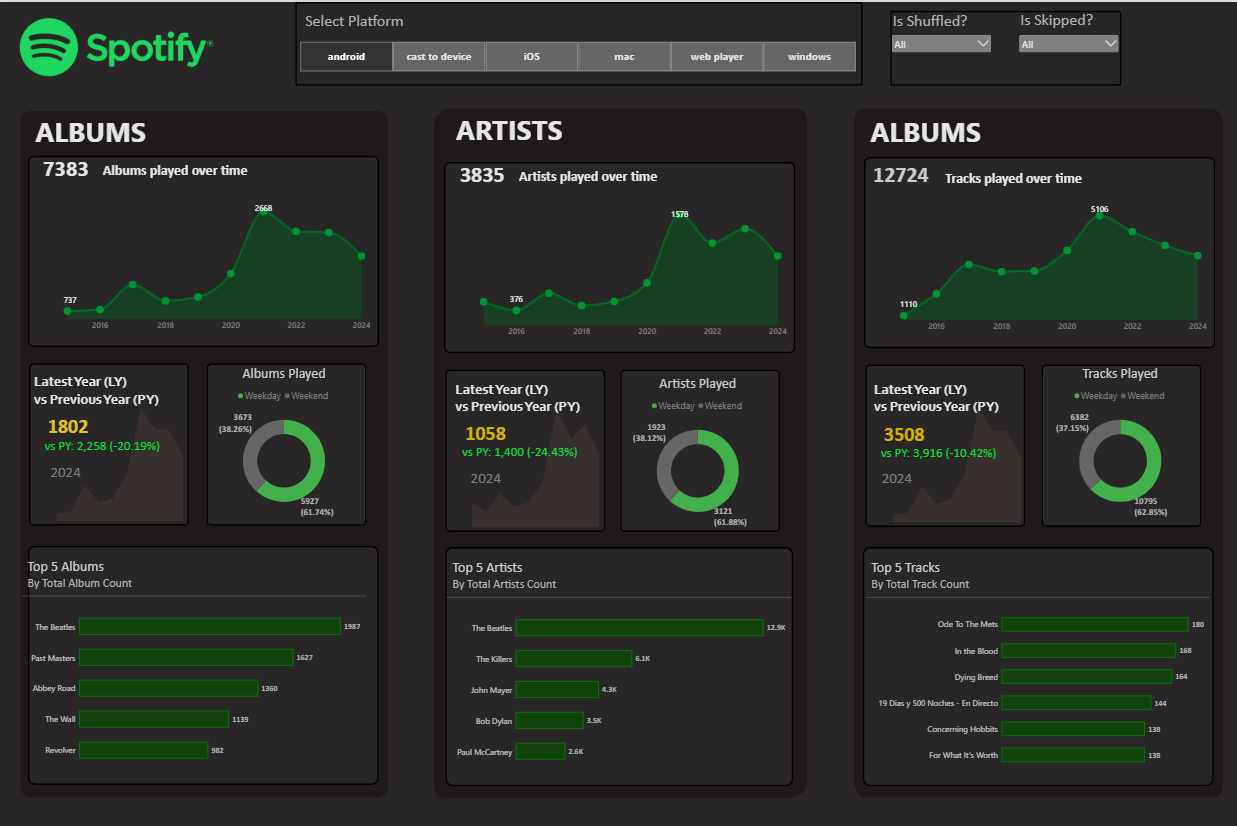

What the dashboard file says about the page in this screenshot:
{"tool":"powerbi","page":{"name":"Overview","canvas":[3300,2200],"ordinal":0},"visuals":[{"type":"shape","box":[790,0,1513.3,223.3],"z":0},{"type":"shape","box":[1171.7,281.7,981.2,1832.3],"z":0,"group":"g2"},{"type":"shape","box":[56,289,981.2,1832.3],"z":0,"group":"g1"},{"type":"shape","box":[2284.7,291,981.2,1832.3],"z":0,"group":"g3"},{"type":"textbox","box":[2724.4,21.1,291.5,113.3],"z":1000,"group":"g6"},{"type":"textbox","box":[816.7,23.3,291.5,113.3],"z":1000,"group":"g4"},{"type":"textbox","box":[2383.3,23.3,291.5,113.3],"z":1000,"group":"g5"},{"type":"image","box":[28.3,24.8,576.7,201.7],"z":1000},{"type":"textbox","box":[1201.5,286.9,315,110],"z":1000,"group":"g2"},{"type":"textbox","box":[85.8,294.2,315,110],"z":1000,"group":"g1"},{"type":"textbox","box":[2314.5,296.2,315,110],"z":1000,"group":"g3"},{"type":"shape","box":[2280,283.3,980,1830],"z":2000},{"type":"shape","box":[1160,293.3,980,1830],"z":3000},{"type":"group","id":"g1","title":"Group 1","box":[56,289,981.2,1832.3],"z":4000},{"type":"shape","box":[76.7,410,936.7,510],"z":5000},{"type":"cardVisual","fields":{"Data":["spotify_history.No of Albums"]},"box":[80,410,197.5,67.5],"z":6000},{"type":"textbox","box":[276.7,426.7,390,50],"z":7000},{"type":"areaChart","fields":{"Category":["Date Table.Year"],"Y":["spotify_history.No of Albums"]},"box":[143.3,516.7,863.3,380],"z":8000},{"type":"shape","box":[80,963.3,426.7,433.3],"z":9000},{"type":"areaChart","fields":{"Category":["Date Table.Year"],"Y":["spotify_history.No of Albums"]},"box":[90,1040,426.7,360],"z":10000},{"type":"textbox","box":[93.3,990,427.5,100],"z":11000},{"type":"cardVisual","fields":{"Data":["spotify_history.CurrentYearAlbums"]},"box":[104,1088,162.9,87.1],"z":12000},{"type":"cardVisual","fields":{"Data":["spotify_history.PY and YoY Albums KPI"]},"box":[103.3,1156.7,344,50],"z":13000},{"type":"slicer","fields":{"Values":["spotify_history.platform"]},"box":[783.3,90,1520,96.7],"z":14000},{"type":"cardVisual","fields":{"Data":["spotify_history.MAX YEAR"]},"box":[105,1157.5,142.5,190],"z":15000},{"type":"shape","box":[551.7,963.3,426.7,433.3],"z":16000},{"type":"donutChart","title":"Albums Played","fields":{"Category":["Date Table.Weekday_Weekend"],"Y":["spotify_history.No of Albums"]},"box":[546.7,953.3,426.7,440],"z":17000},{"type":"shape","box":[76,1450,936,638],"z":18000},{"type":"barChart","title":"Top 5 Albums","fields":{"Category":["spotify_history.album_name"],"Y":["CountNonNull(spotify_history.album_name)"]},"box":[60,1466.7,920,604],"z":19000},{"type":"group","id":"g2","title":"Group 1","box":[1171.7,281.7,981.7,1833.3],"z":20000},{"type":"shape","box":[1188,428,936.7,510],"z":21000},{"type":"cardVisual","fields":{"Data":["spotify_history.No of Artists"]},"box":[1191.3,428,197.5,67.5],"z":22000},{"type":"textbox","box":[1387.7,444.6,390.6,73],"z":23000},{"type":"areaChart","fields":{"Category":["Date Table.Year"],"Y":["spotify_history.No of Artists"]},"box":[1254.7,534.7,863.3,380],"z":24000},{"type":"shape","box":[1191.3,981.3,426.7,433.3],"z":25000},{"type":"areaChart","fields":{"Category":["Date Table.Year"],"Y":["spotify_history.No of Artists"]},"box":[1196.7,1056.7,430,360],"z":26000},{"type":"textbox","box":[1216.7,1010,427.5,100],"z":27000},{"type":"cardVisual","fields":{"Data":["spotify_history.LatestYearArtists"]},"box":[1215.3,1106,162.9,87.1],"z":28000},{"type":"cardVisual","fields":{"Data":["spotify_history.PY and YoY Artists KPI"]},"box":[1216.7,1173.3,344,50],"z":29000},{"type":"shape","box":[1656.7,978.3,426.7,433.3],"z":30000},{"type":"donutChart","title":"Artists Played","fields":{"Category":["Date Table.Weekday_Weekend"],"Y":["spotify_history.No of Artists"]},"box":[1650,980,426.7,440],"z":31000},{"type":"shape","box":[1190,1451.7,928,638],"z":32000},{"type":"barChart","title":"Top 5 Artists","fields":{"Category":["spotify_history.artist_name"],"Y":["CountNonNull(spotify_history.artist_name)"]},"box":[1193.3,1468.3,920,604],"z":33000},{"type":"cardVisual","fields":{"Data":["spotify_history.MAX YEAR"]},"box":[1215,1176.7,163.3,183.3],"z":34000},{"type":"group","id":"g3","title":"Group 1","box":[2284.7,291,981.2,1832.3],"z":35000},{"type":"shape","box":[2305.3,412,936.7,510],"z":36000},{"type":"cardVisual","fields":{"Data":["spotify_history.No of Tracks"]},"box":[2310,427.5,190,67.5],"z":37000},{"type":"textbox","box":[2522.5,445,390,50],"z":38000},{"type":"areaChart","fields":{"Category":["Date Table.Year"],"Y":["spotify_history.No of Tracks"]},"box":[2372,518.7,863.3,380],"z":39000},{"type":"shape","box":[2308.7,965.3,426.7,433.3],"z":40000},{"type":"areaChart","fields":{"Category":["Date Table.Year"],"Y":["spotify_history.No of Albums"]},"box":[2323.3,1043.3,426.7,360],"z":41000},{"type":"textbox","box":[2333.3,1010,427.5,100],"z":42000},{"type":"cardVisual","fields":{"Data":["spotify_history.LatestYearsTracks"]},"box":[2333.3,1110,162.9,87.1],"z":43000},{"type":"cardVisual","fields":{"Data":["spotify_history.PY and YoY Tracks KPI"]},"box":[2332.7,1178,344,50],"z":44000},{"type":"cardVisual","fields":{"Data":["spotify_history.MAX YEAR"]},"box":[2323.3,1173.3,142.5,190],"z":45000},{"type":"shape","box":[2780.3,965.3,426.7,433.3],"z":46000},{"type":"donutChart","title":"Tracks Played","fields":{"Category":["Date Table.Weekday_Weekend"],"Y":["spotify_history.No of Tracks"]},"box":[2776.7,953.3,426.7,440],"z":47000},{"type":"shape","box":[2304.7,1452,936,638],"z":48000},{"type":"barChart","title":"Top 5 Tracks","fields":{"Category":["spotify_history.track_name"],"Y":["CountNonNull(spotify_history.track_name)"]},"box":[2310,1470,920,604],"z":49000},{"type":"group","id":"g4","title":"Group 1","box":[816.7,23.3,290,113.3],"z":50000},{"type":"shape","box":[2376.7,23.3,616.7,200],"z":51000},{"type":"slicer","fields":{"Values":["spotify_history.shuffle"]},"box":[2376.7,83.3,273.3,200],"z":52000},{"type":"slicer","fields":{"Values":["spotify_history.skipped"]},"box":[2716.7,83.3,273.3,200],"z":53000},{"type":"group","id":"g5","title":"Group 1","box":[2383.3,23.3,290,113.3],"z":54000},{"type":"group","id":"g6","title":"Group 1","box":[2724.4,21.1,291.5,113.3],"z":55000}]}

Visuals, with their boxes in screenshot pixels (x1, y1, x2, y2), scaled from the page's 3300x2200 canvas onto the 1237x826 screenshot:
shape: <box>296,0,863,84</box>
shape: <box>439,106,807,794</box>
shape: <box>21,109,389,796</box>
shape: <box>856,109,1224,797</box>
textbox: <box>1021,8,1131,50</box>
textbox: <box>306,9,415,51</box>
textbox: <box>893,9,1003,51</box>
image: <box>11,9,227,85</box>
textbox: <box>450,108,568,149</box>
textbox: <box>32,110,150,152</box>
textbox: <box>868,111,986,153</box>
shape: <box>855,106,1222,793</box>
shape: <box>435,110,802,797</box>
"Group 1" group: <box>21,109,389,796</box>
shape: <box>29,154,380,345</box>
cardVisual - spotify_history.No of Albums: <box>30,154,104,179</box>
textbox: <box>104,160,250,179</box>
areaChart - Date Table.Year x spotify_history.No of Albums: <box>54,194,377,337</box>
shape: <box>30,362,190,524</box>
areaChart - Date Table.Year x spotify_history.No of Albums: <box>34,390,194,526</box>
textbox: <box>35,372,195,409</box>
cardVisual - spotify_history.CurrentYearAlbums: <box>39,408,100,441</box>
cardVisual - spotify_history.PY and YoY Albums KPI: <box>39,434,168,453</box>
slicer - spotify_history.platform: <box>294,34,863,70</box>
cardVisual - spotify_history.MAX YEAR: <box>39,435,93,506</box>
shape: <box>207,362,367,524</box>
"Albums Played" donutChart: <box>205,358,365,523</box>
shape: <box>28,544,379,784</box>
"Top 5 Albums" barChart: <box>22,551,367,777</box>
"Group 1" group: <box>439,106,807,794</box>
shape: <box>445,161,796,352</box>
cardVisual - spotify_history.No of Artists: <box>447,161,521,186</box>
textbox: <box>520,167,667,194</box>
areaChart - Date Table.Year x spotify_history.No of Artists: <box>470,201,794,343</box>
shape: <box>447,368,607,531</box>
areaChart - Date Table.Year x spotify_history.No of Artists: <box>449,397,610,532</box>
textbox: <box>456,379,616,417</box>
cardVisual - spotify_history.LatestYearArtists: <box>456,415,517,448</box>
cardVisual - spotify_history.PY and YoY Artists KPI: <box>456,441,585,459</box>
shape: <box>621,367,781,530</box>
"Artists Played" donutChart: <box>618,368,778,533</box>
shape: <box>446,545,794,785</box>
"Top 5 Artists" barChart: <box>447,551,792,778</box>
cardVisual - spotify_history.MAX YEAR: <box>455,442,517,511</box>
"Group 1" group: <box>856,109,1224,797</box>
shape: <box>864,155,1215,346</box>
cardVisual - spotify_history.No of Tracks: <box>866,161,937,186</box>
textbox: <box>946,167,1092,186</box>
areaChart - Date Table.Year x spotify_history.No of Tracks: <box>889,195,1213,337</box>
shape: <box>865,362,1025,525</box>
areaChart - Date Table.Year x spotify_history.No of Albums: <box>871,392,1031,527</box>
textbox: <box>875,379,1035,417</box>
cardVisual - spotify_history.LatestYearsTracks: <box>875,417,936,449</box>
cardVisual - spotify_history.PY and YoY Tracks KPI: <box>874,442,1003,461</box>
cardVisual - spotify_history.MAX YEAR: <box>871,441,924,512</box>
shape: <box>1042,362,1202,525</box>
"Tracks Played" donutChart: <box>1041,358,1201,523</box>
shape: <box>864,545,1215,785</box>
"Top 5 Tracks" barChart: <box>866,552,1211,779</box>
"Group 1" group: <box>306,9,415,51</box>
shape: <box>891,9,1122,84</box>
slicer - spotify_history.shuffle: <box>891,31,993,106</box>
slicer - spotify_history.skipped: <box>1018,31,1121,106</box>
"Group 1" group: <box>893,9,1002,51</box>
"Group 1" group: <box>1021,8,1131,50</box>
